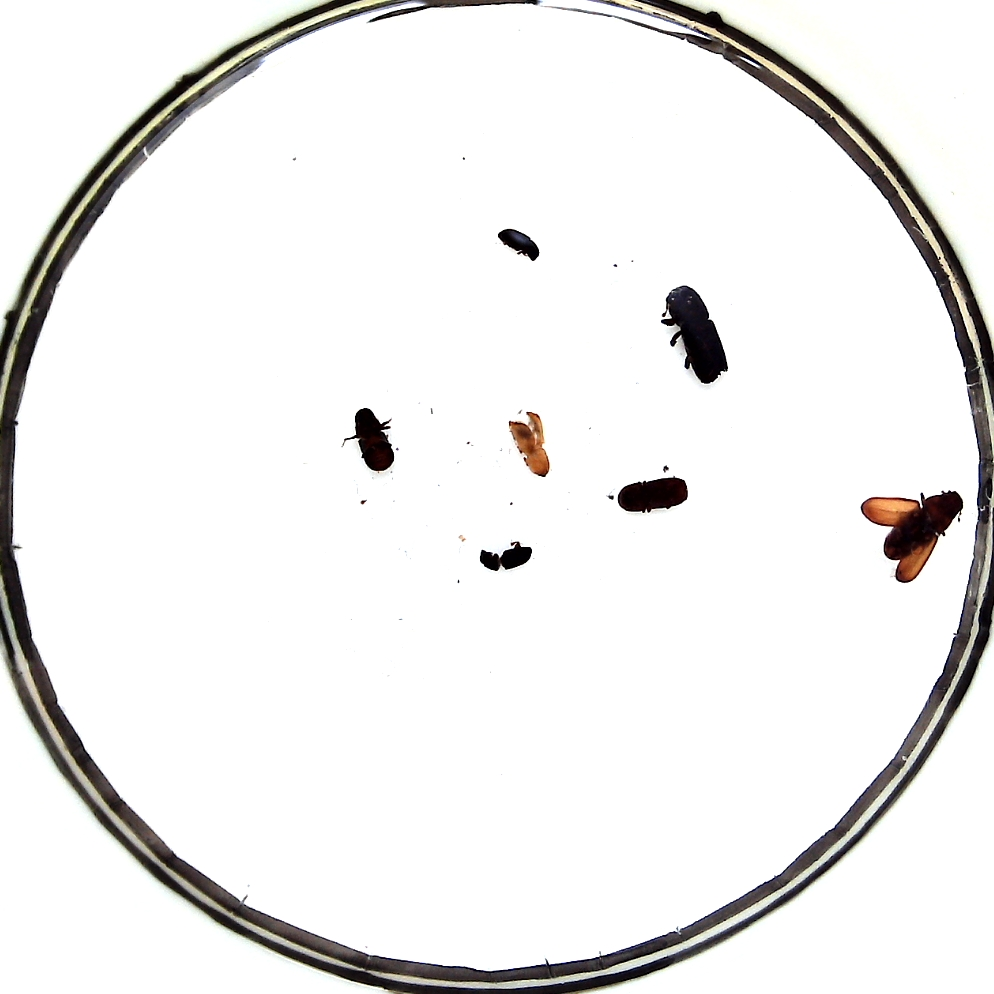Boerner: (665, 285, 728, 384)
Leconte: (883, 491, 962, 560)
acuminatus: (479, 545, 532, 571), (498, 228, 539, 261)
armandi: (354, 407, 394, 471)
coleoptera: (508, 411, 550, 476)
linnaeus: (618, 477, 688, 512)
